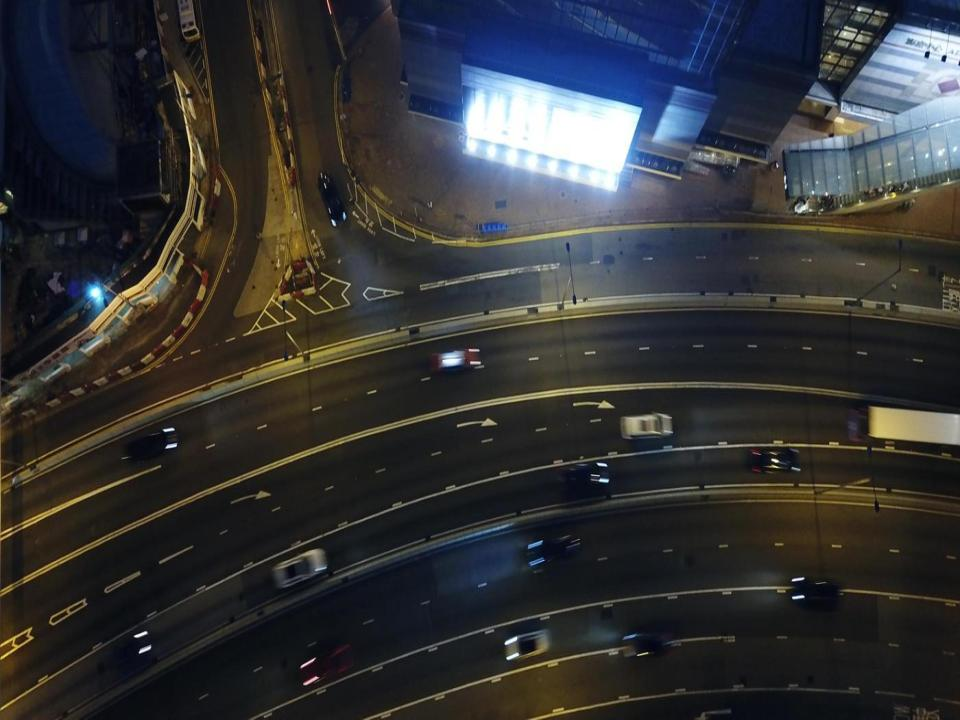bus: (852, 404, 959, 448)
car: (272, 545, 328, 593), (120, 426, 180, 468), (96, 628, 152, 672), (299, 645, 354, 686), (526, 535, 579, 570), (316, 167, 347, 226), (504, 626, 551, 660), (791, 576, 839, 606), (431, 346, 482, 374), (558, 460, 609, 488), (749, 448, 799, 474), (622, 632, 671, 658)
van: (620, 412, 674, 438), (176, 1, 200, 39)
